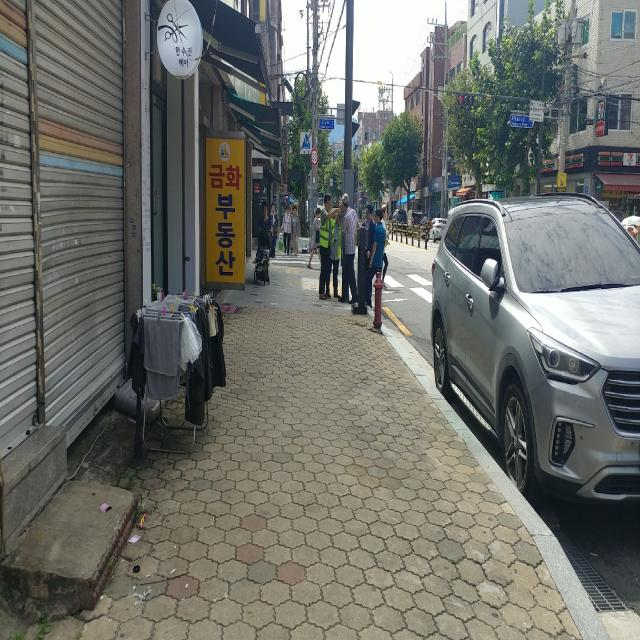횡단보도: (270, 254, 322, 264)
